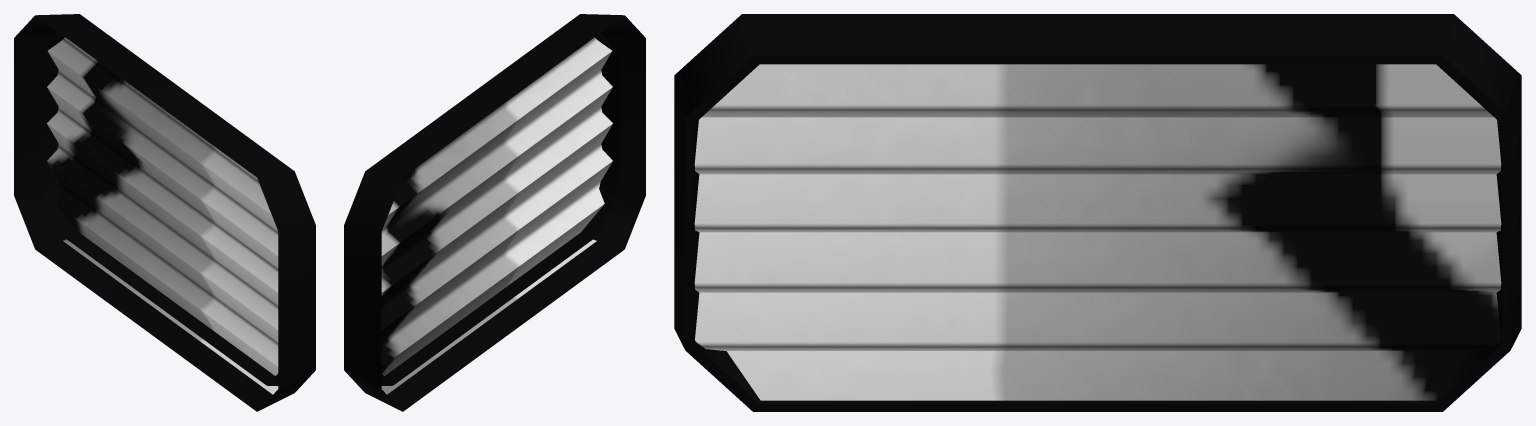
Rendered from WF_small_went.fbx.
The picture shows the model from 3 angles, left to right: view 1: azimuth 30°, elevation 25°; view 2: azimuth 150°, elevation 25°; view 3: azimuth 270°, elevation 25°; orthographic projection. The views are drawn at different scales.
Parts seen in each view (by area): view 1: WF_small_went; view 2: WF_small_went; view 3: WF_small_went.
Part boxes in pixels (<box>): WF_small_went: <box>14,14,315,411</box>; WF_small_went: <box>344,14,645,411</box>; WF_small_went: <box>674,14,1521,411</box>.
Bounding box in the file's own units: 4.38 × 23.82 × 48.67.
